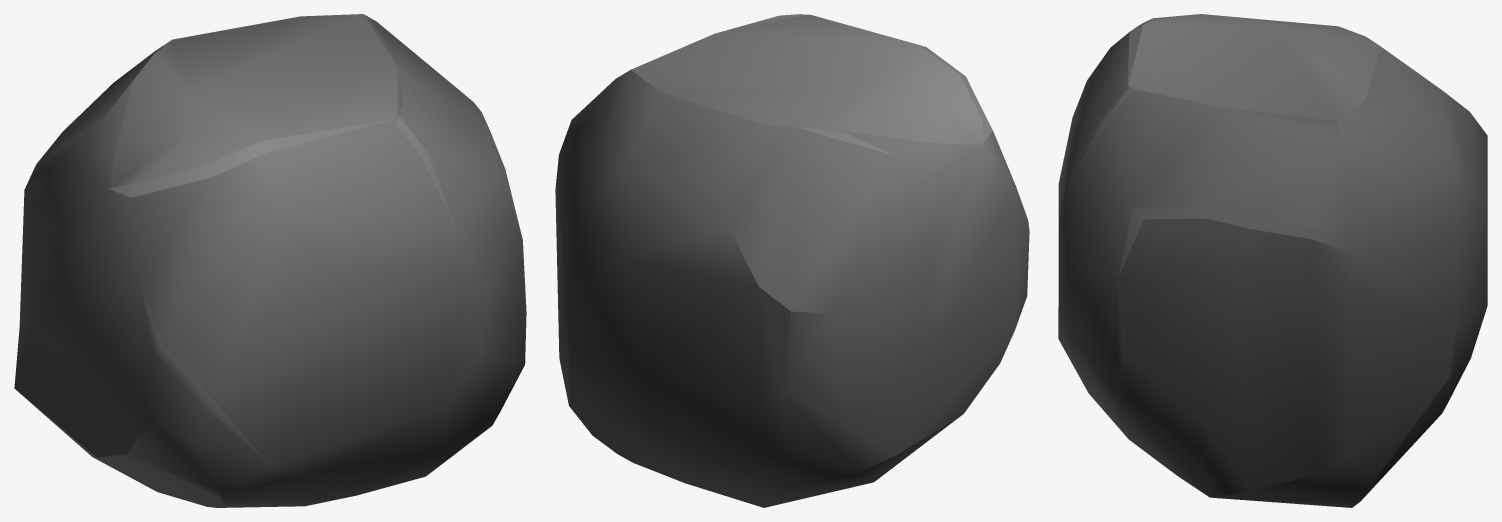
Rendered from rocks_004.glb.
The picture shows the model from 3 angles, left to right: view 1: azimuth 30°, elevation 25°; view 2: azimuth 150°, elevation 25°; view 3: azimuth 270°, elevation 25°; orthographic projection. The views are drawn at different scales.
Visible parts, largest first — view 1: rocks.004; view 2: rocks.004; view 3: rocks.004.
Part boxes in pixels (x1,y1,x2,y2): rocks.004: (14, 14, 526, 507); rocks.004: (555, 14, 1029, 507); rocks.004: (1058, 14, 1487, 507).
Size of the model in its own units: 0.3663 by 0.3661 by 0.3658.
Materials: 1 (1 with a texture image).
